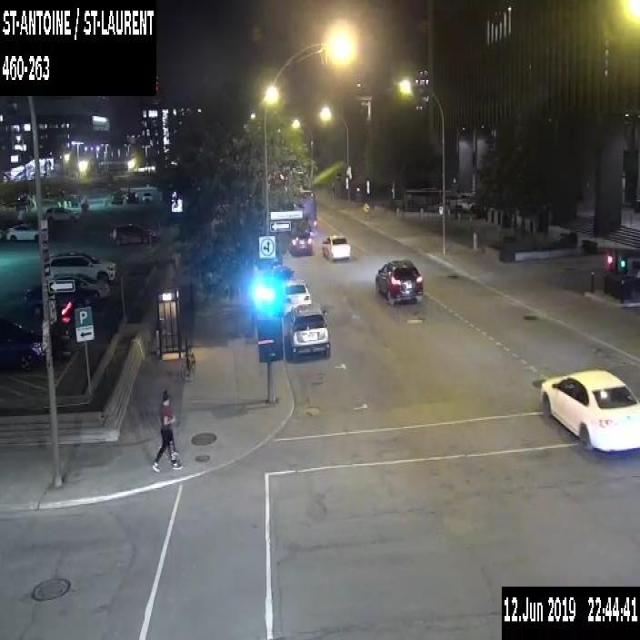pedestrian: (153, 389, 181, 472), (171, 248, 181, 282)
vehicle: (540, 368, 639, 451), (287, 300, 329, 360), (0, 317, 44, 372), (22, 283, 99, 314), (48, 250, 117, 284), (374, 258, 422, 306), (48, 271, 110, 298), (108, 222, 157, 246), (321, 233, 351, 260), (44, 205, 79, 224), (5, 222, 38, 241), (289, 230, 312, 254), (110, 189, 125, 203), (125, 190, 138, 201), (140, 190, 152, 201)
